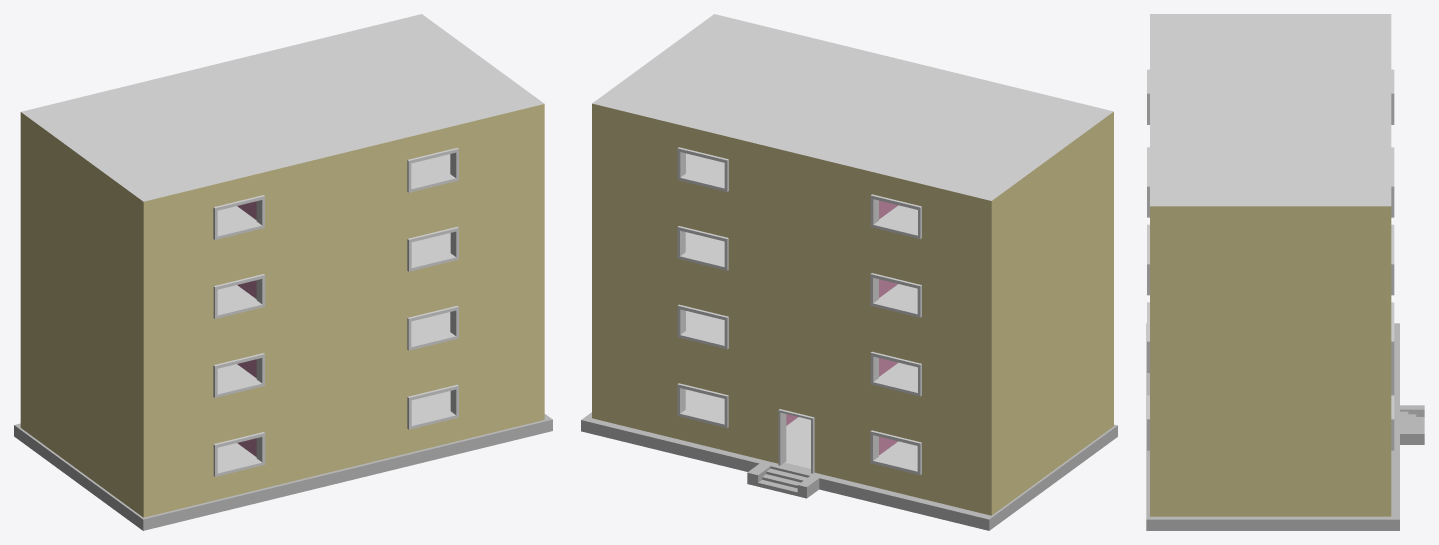
The model's file is Apartament.fbx.
The picture shows the model from 3 angles, left to right: view 1: azimuth 30°, elevation 25°; view 2: azimuth 150°, elevation 25°; view 3: azimuth 270°, elevation 25°; orthographic projection.
Visible parts, largest first — view 1: Apartament; view 2: Apartament; view 3: Apartament.
Part boxes in pixels (x1,y1,x2,y2): Apartament: (14,14,552,530); Apartament: (581,14,1117,530); Apartament: (1146,14,1424,530).
Size of the model in its own units: 17.26 by 13.18 by 10.33.
